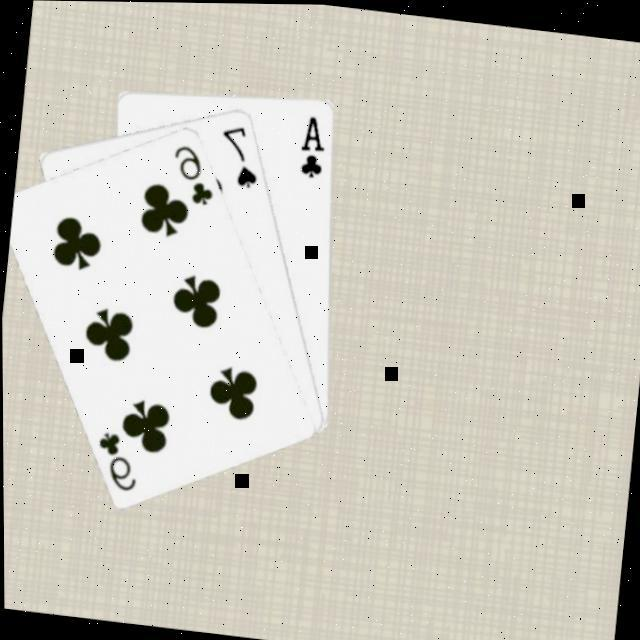6C: (166, 137, 222, 206), (90, 424, 144, 493)
7S: (214, 117, 266, 189)
AC: (295, 108, 332, 178)
